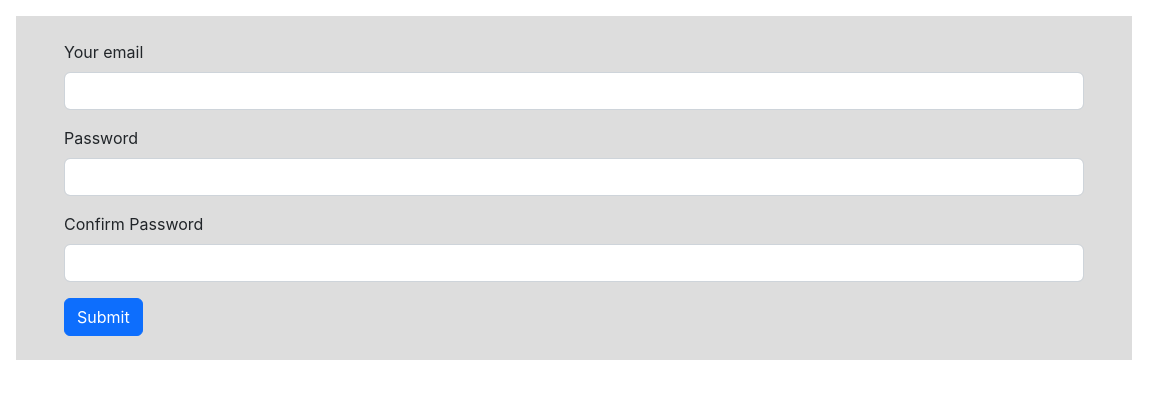
Test case: check password length is not less than 5
This screenshot has width=1149, height=417.
Type "jandoe@gma.com" into the field labelled "Your email" at (574, 91), box [64,72,1084,110]
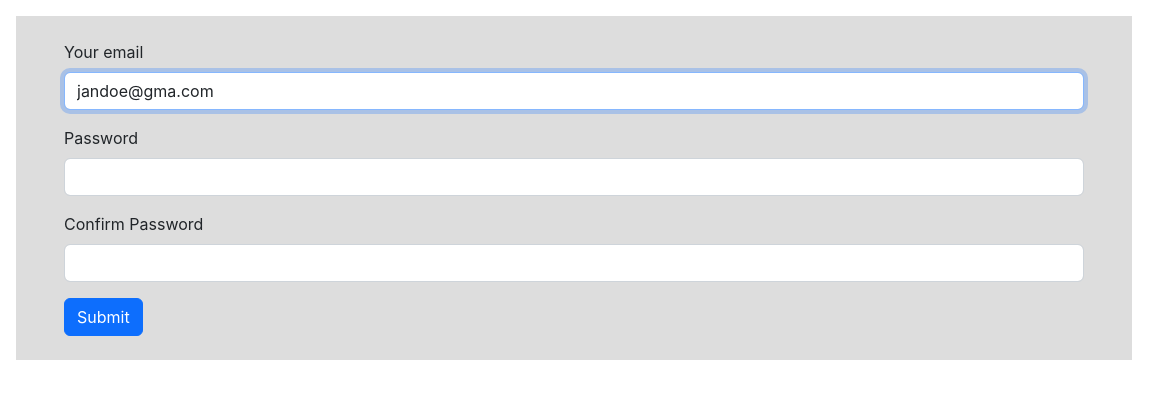
Expected: the text "password must contain 5 or more characters" is not shown
Type "ente" into the password field labelled "Password" at (574, 177), box [64,158,1084,196]
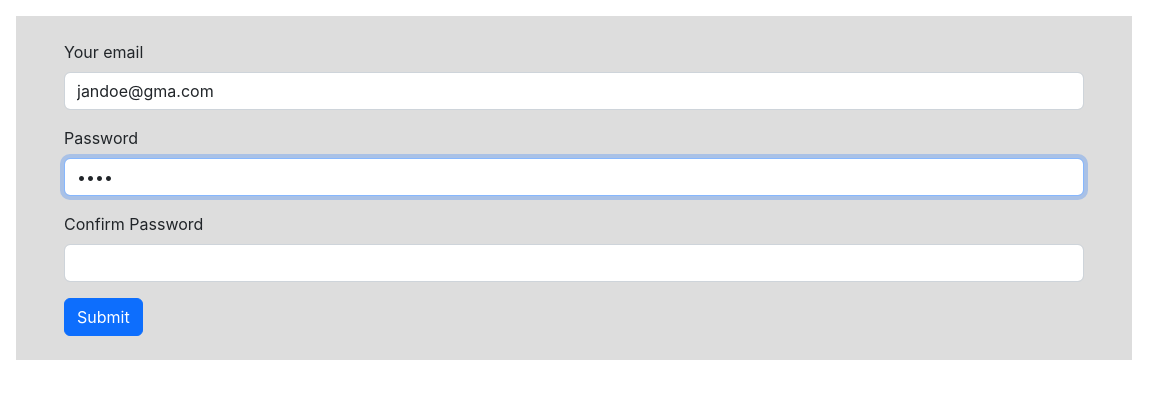
Click the button "Submit" at (103, 317), box [64,298,143,336]
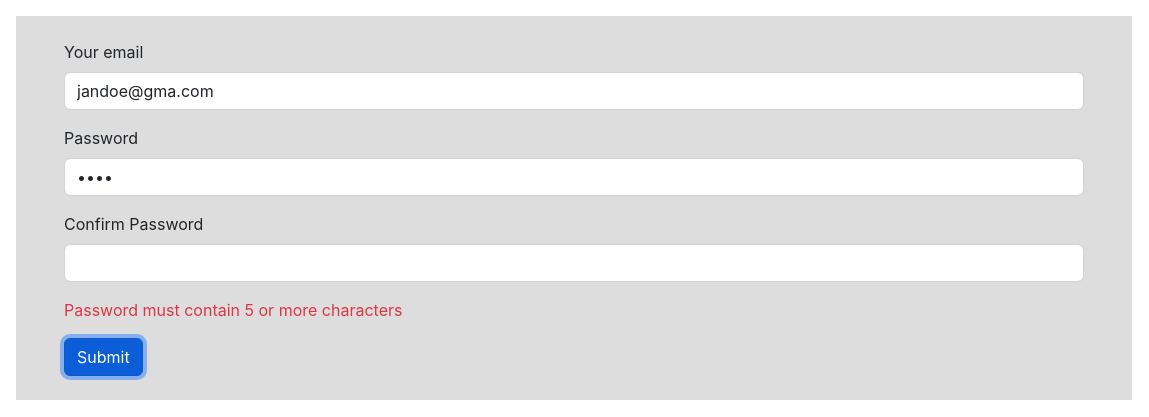
Expected: the text "Password must contain 5 or more characters" is shown, [64,300,402,320]
